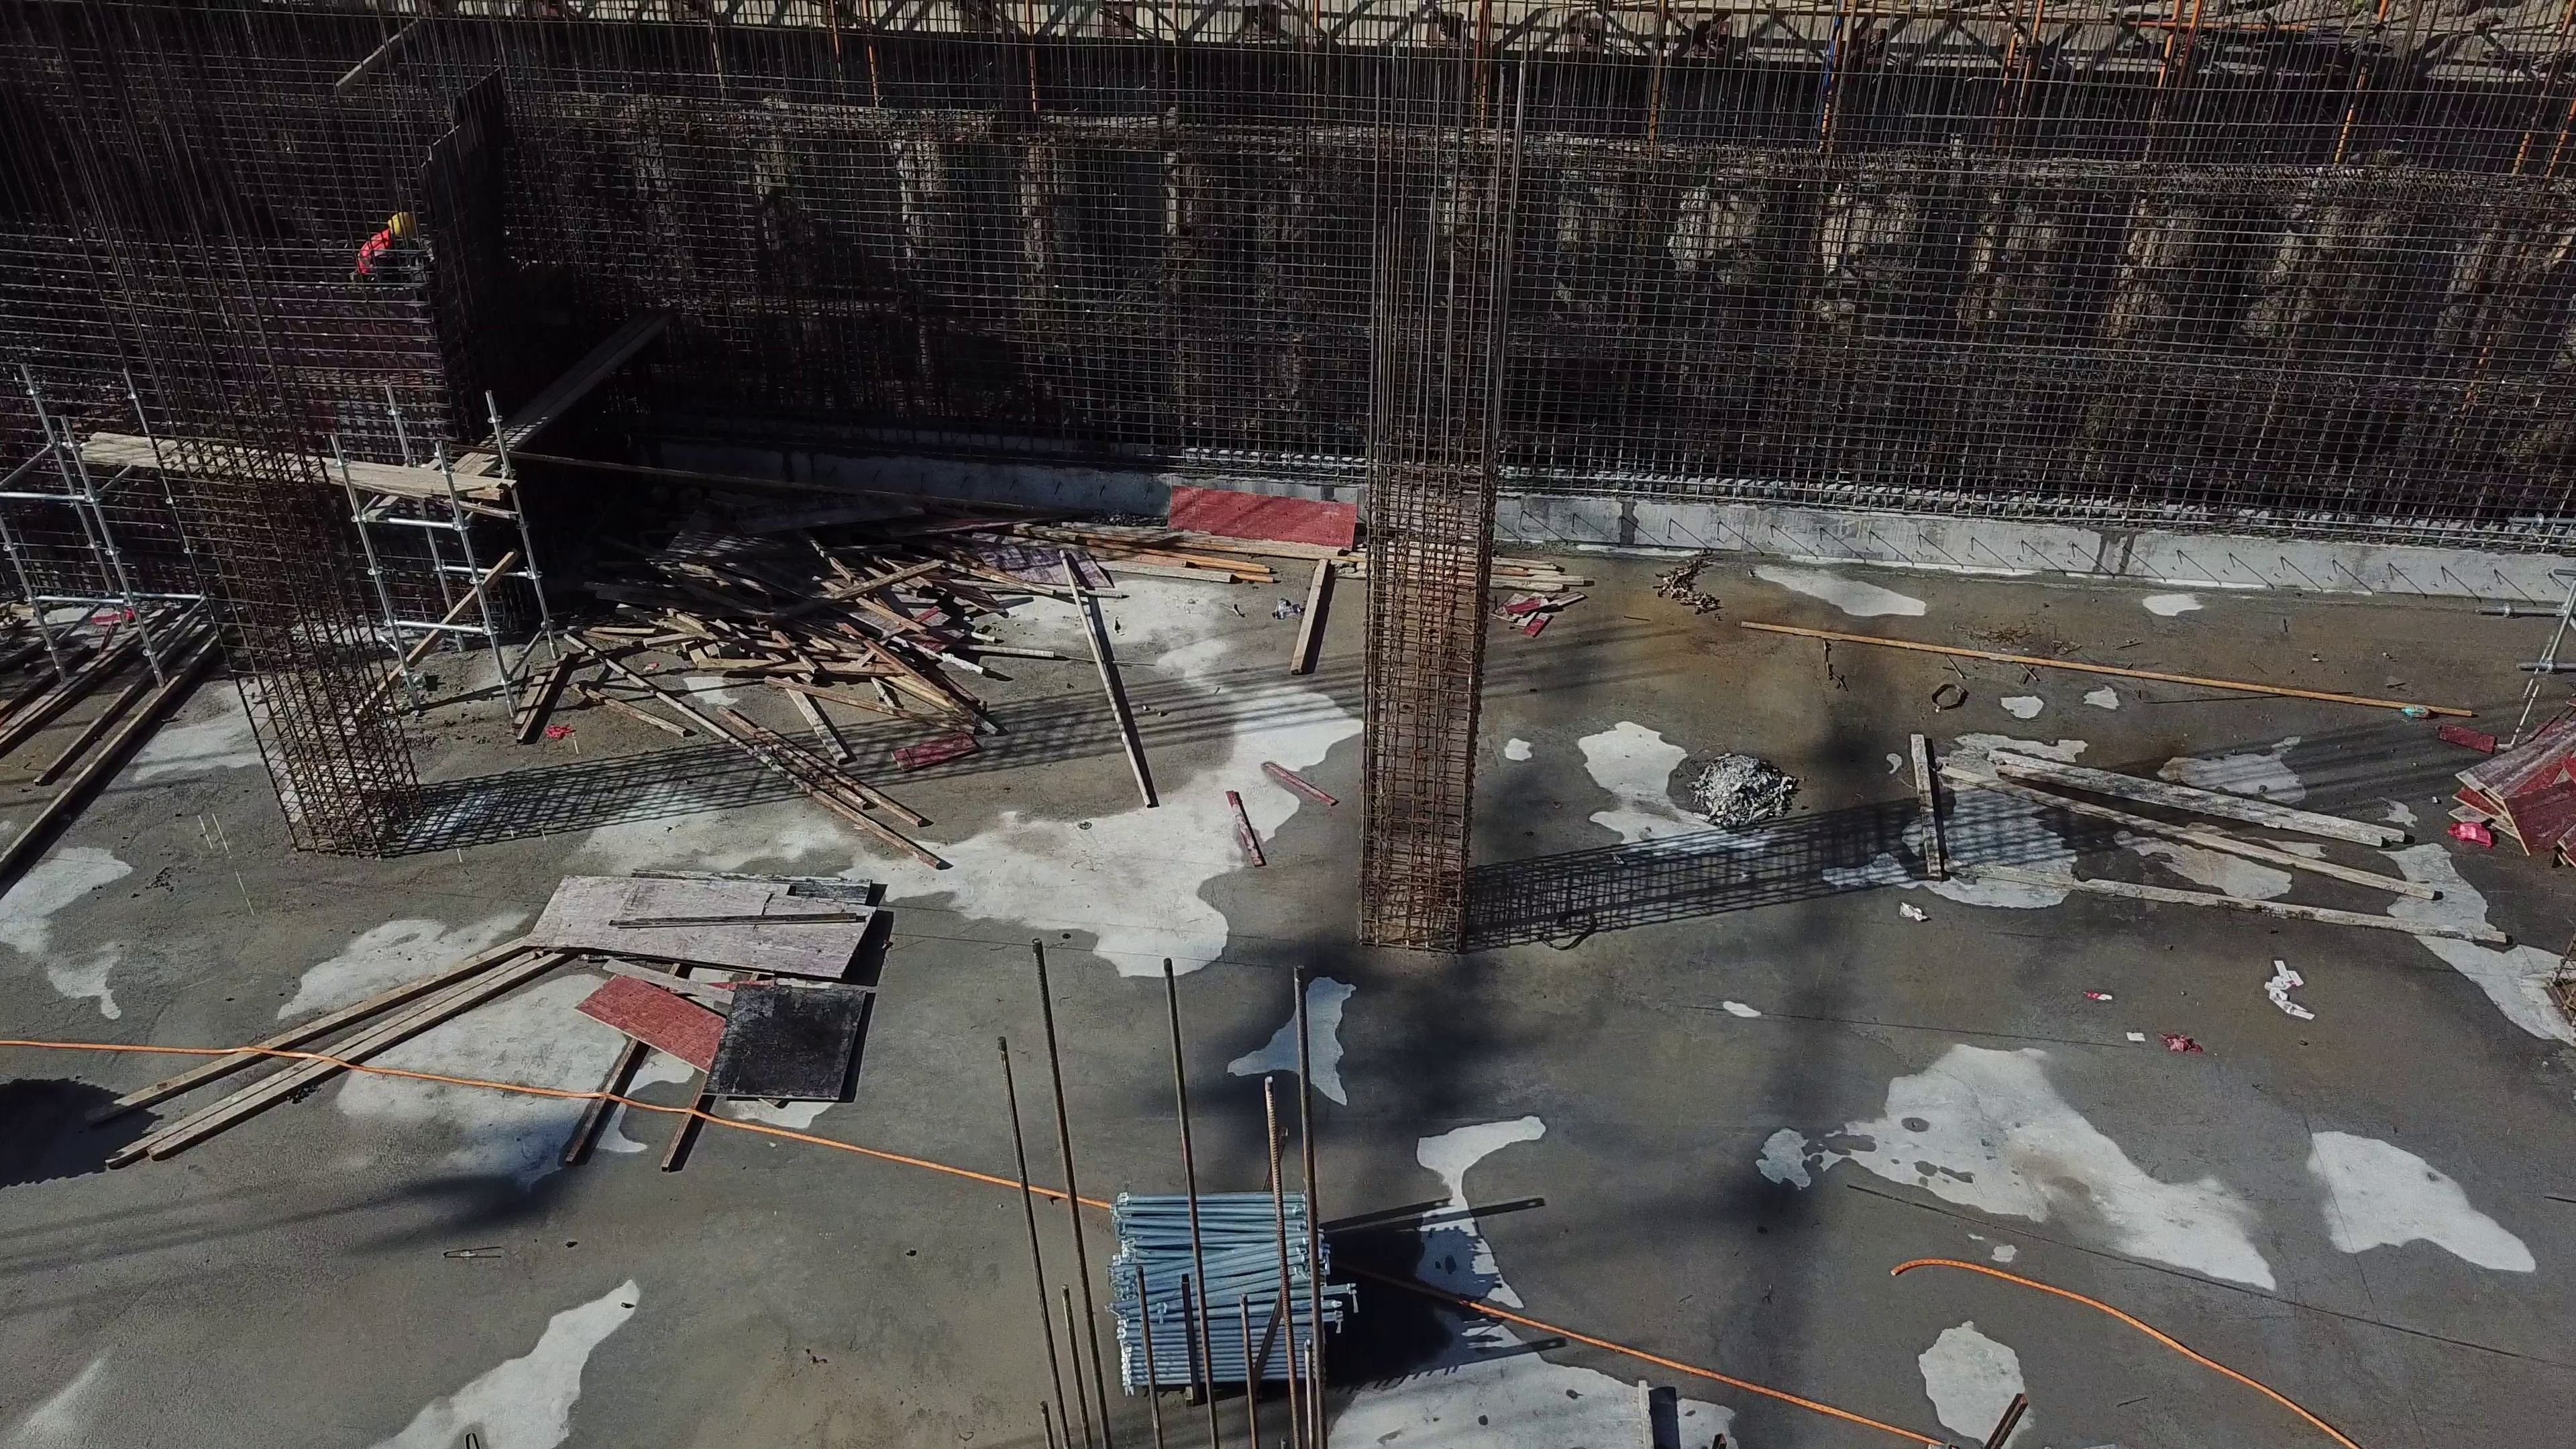helmet: (390, 213, 417, 237)
person: (350, 191, 435, 281)
scaffold: (1121, 1207, 1339, 1401)
vest: (354, 224, 390, 276)
